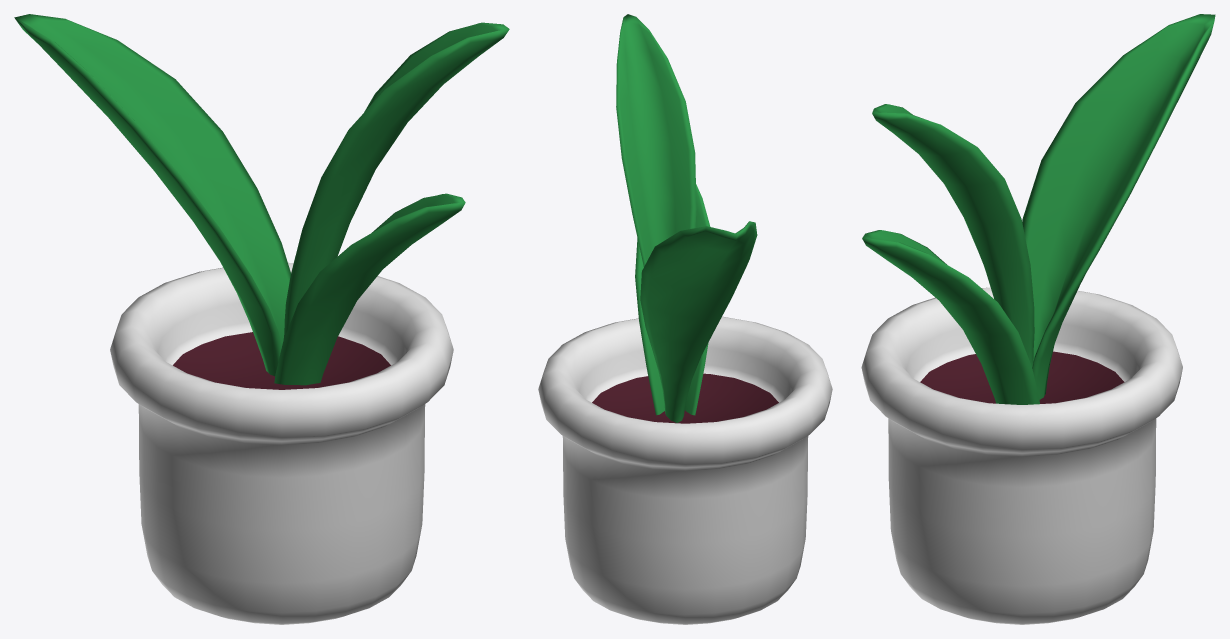
The model's file is plantB.glb.
3 renders of one model, left to right at view 1: azimuth 30°, elevation 25°; view 2: azimuth 150°, elevation 25°; view 3: azimuth 270°, elevation 25°, orthographic. The views are drawn at different scales.
Visible parts, largest first — view 1: plantB_colourA, plantB; view 2: plantB_colourA, plantB; view 3: plantB_colourA, plantB.
Part boxes in pixels (box(x1,y1,x2,y2)): plantB_colourA: box(110, 262, 453, 624); plantB: box(14, 14, 509, 389); plantB_colourA: box(538, 316, 832, 624); plantB: box(592, 14, 778, 423); plantB_colourA: box(861, 287, 1182, 624); plantB: box(862, 14, 1215, 404).
Bounding box in the file's own units: 0.3298 × 0.5816 × 0.3449.
2 materials, 1 textured.
